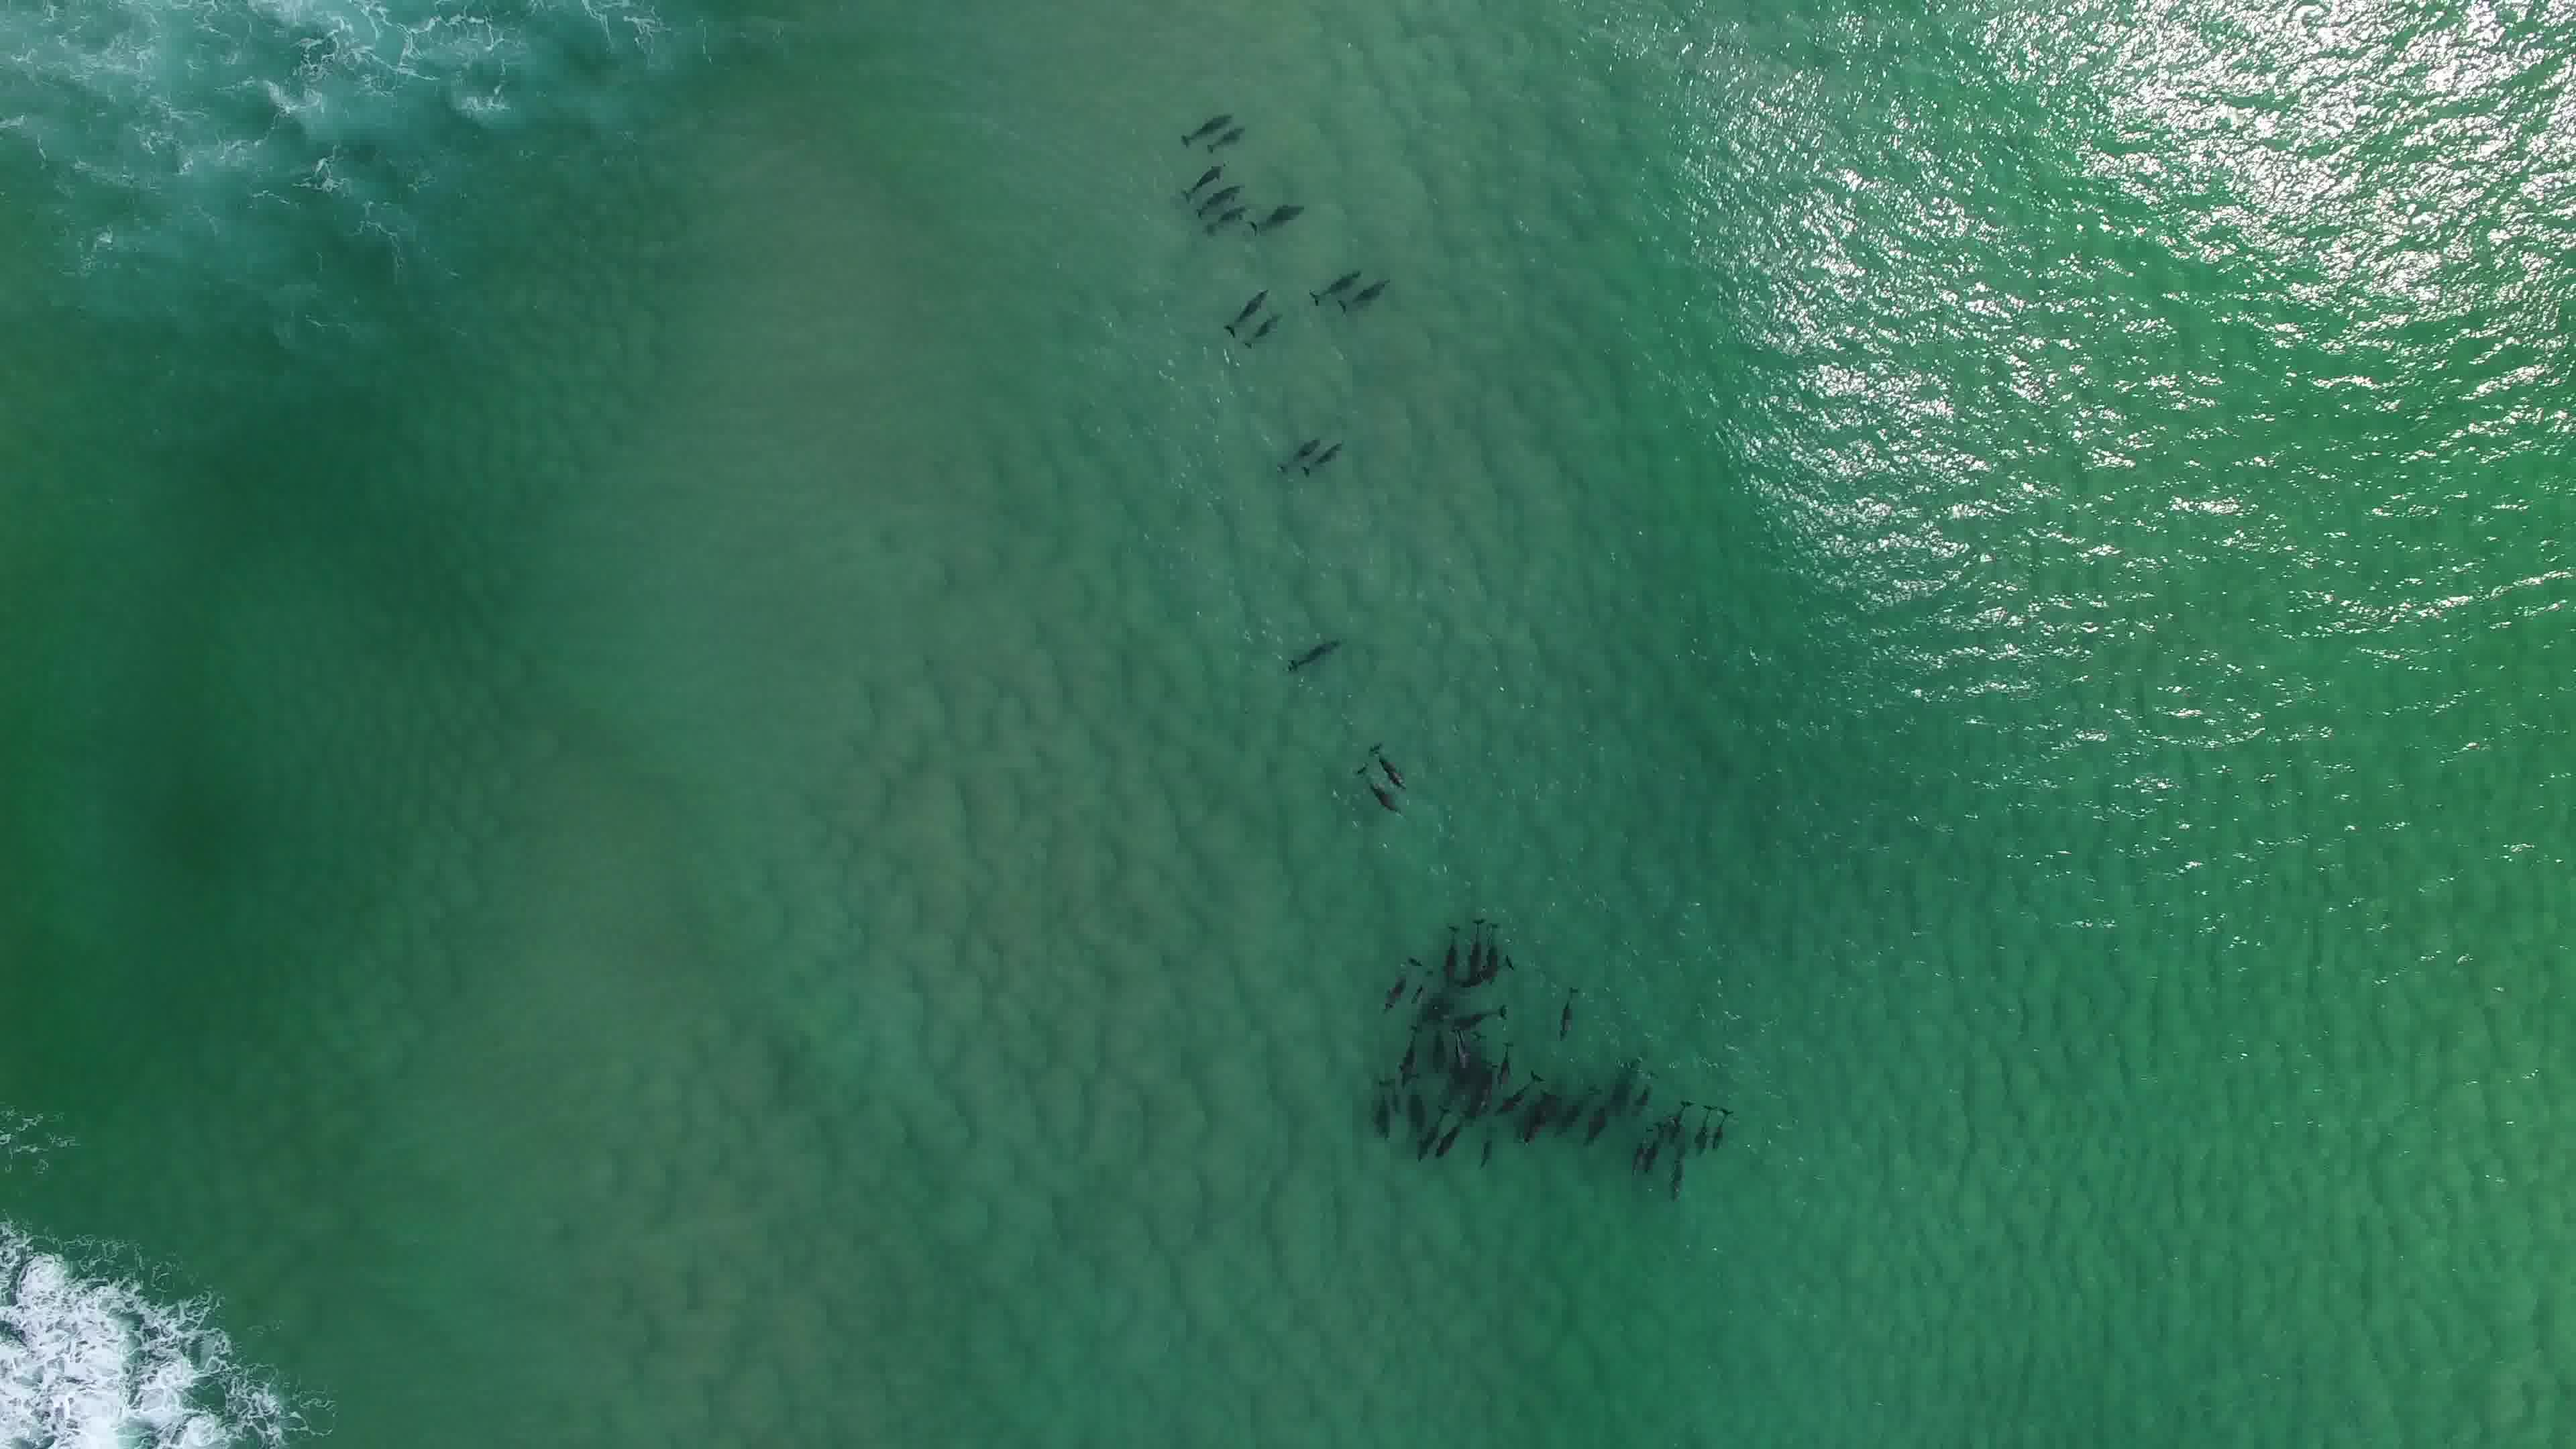dolphin: (1371, 943, 1419, 1010), (1348, 773, 1408, 826), (1299, 255, 1366, 299), (1438, 998, 1518, 1035), (1223, 278, 1270, 331), (1361, 732, 1408, 786), (1267, 425, 1323, 469), (1364, 1070, 1399, 1141), (1488, 1065, 1546, 1108), (1481, 902, 1509, 989), (1173, 101, 1233, 142), (1244, 193, 1306, 232), (1293, 630, 1346, 674), (1548, 980, 1583, 1046), (1433, 920, 1467, 985), (1412, 1099, 1447, 1161), (1171, 154, 1231, 189), (1191, 172, 1246, 209), (1242, 304, 1286, 350), (1642, 1120, 1677, 1177), (1433, 1109, 1468, 1164), (1396, 1019, 1428, 1079), (1576, 1097, 1617, 1143), (1300, 439, 1352, 474), (1629, 1063, 1665, 1115), (1445, 1024, 1476, 1081), (1201, 120, 1254, 152), (1463, 909, 1488, 977), (1523, 1088, 1557, 1136), (1691, 1099, 1720, 1155), (1341, 276, 1394, 306), (1491, 1040, 1520, 1092), (1470, 1065, 1493, 1127), (1208, 202, 1254, 232), (1670, 1092, 1693, 1152), (1711, 1106, 1736, 1159), (1631, 1129, 1656, 1180), (1674, 1143, 1691, 1201)
